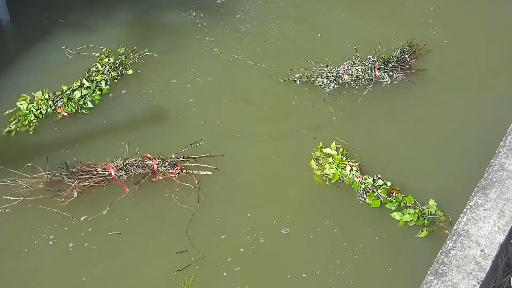twig: (0, 27, 158, 146), (308, 136, 442, 251), (19, 135, 218, 210), (302, 40, 466, 99)
